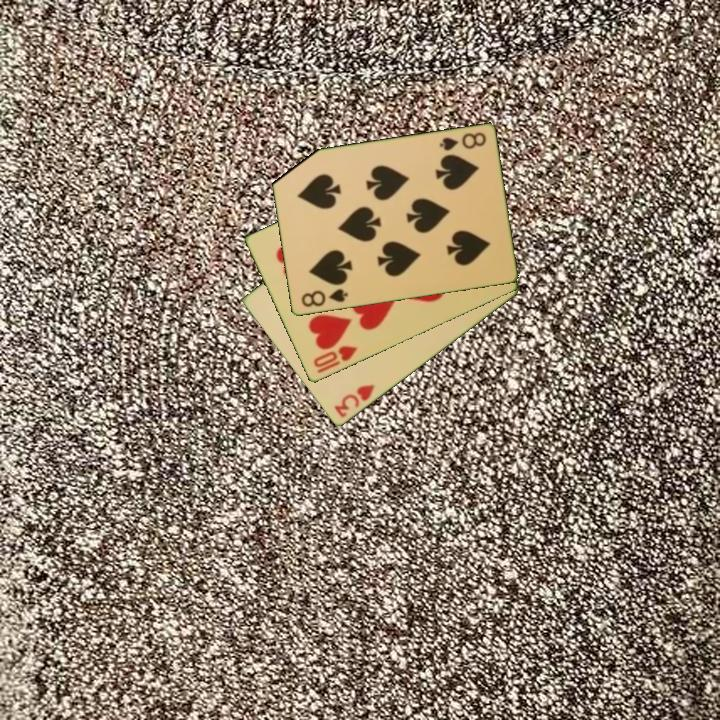10h: (310, 342, 360, 371)
3h: (331, 381, 378, 421)
8s: (436, 129, 489, 154), (298, 285, 350, 310)
